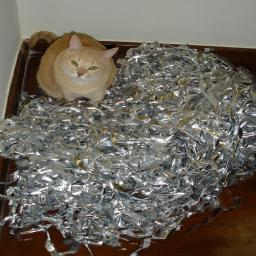catnose: (75, 71, 85, 79)
